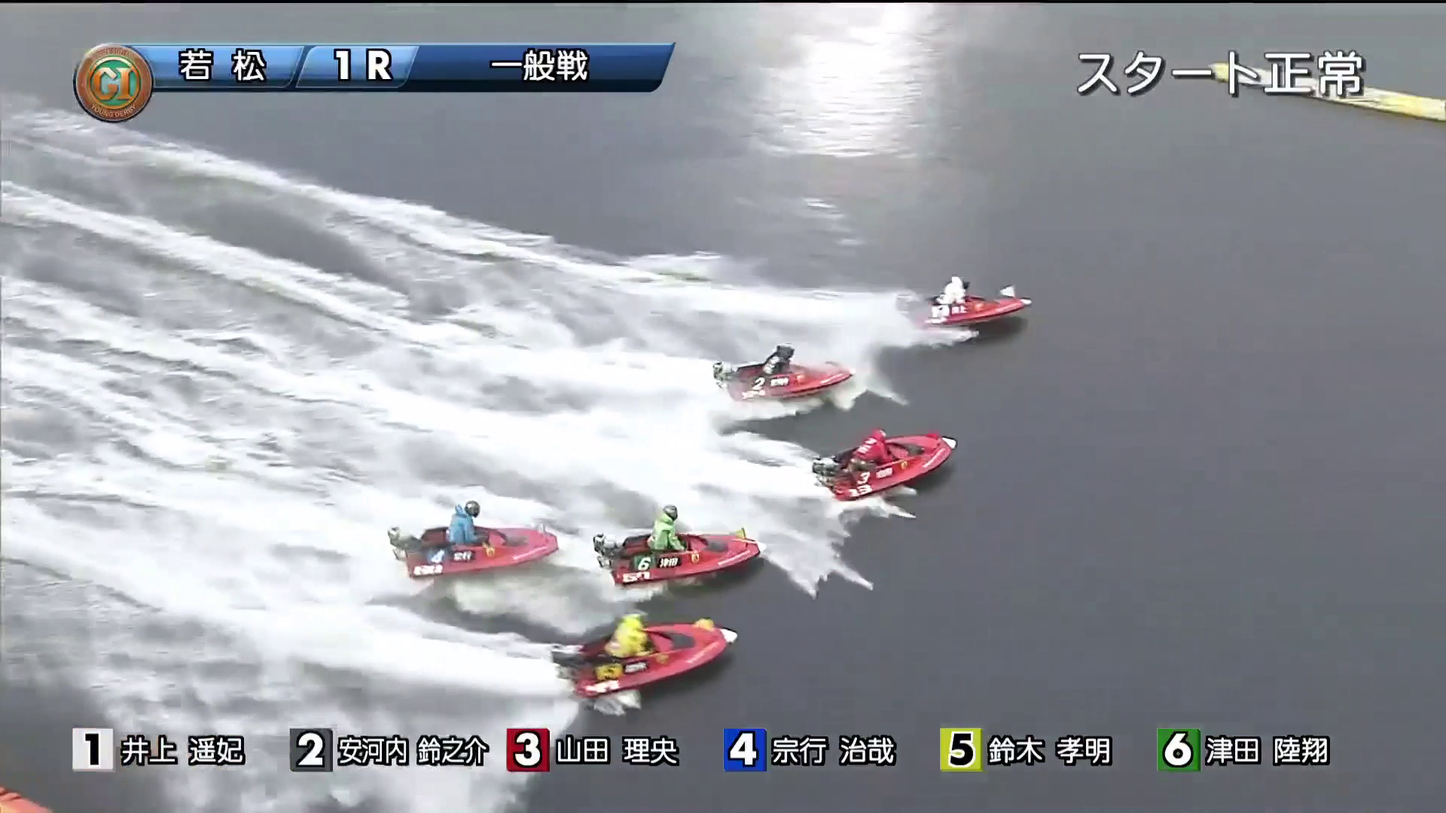１号艇: (923, 283, 1061, 336)
２号艇: (718, 348, 846, 408)
３号艇: (832, 441, 972, 488)
４号艇: (622, 513, 743, 578)
５号艇: (402, 521, 526, 576)
６号艇: (608, 632, 708, 689)
